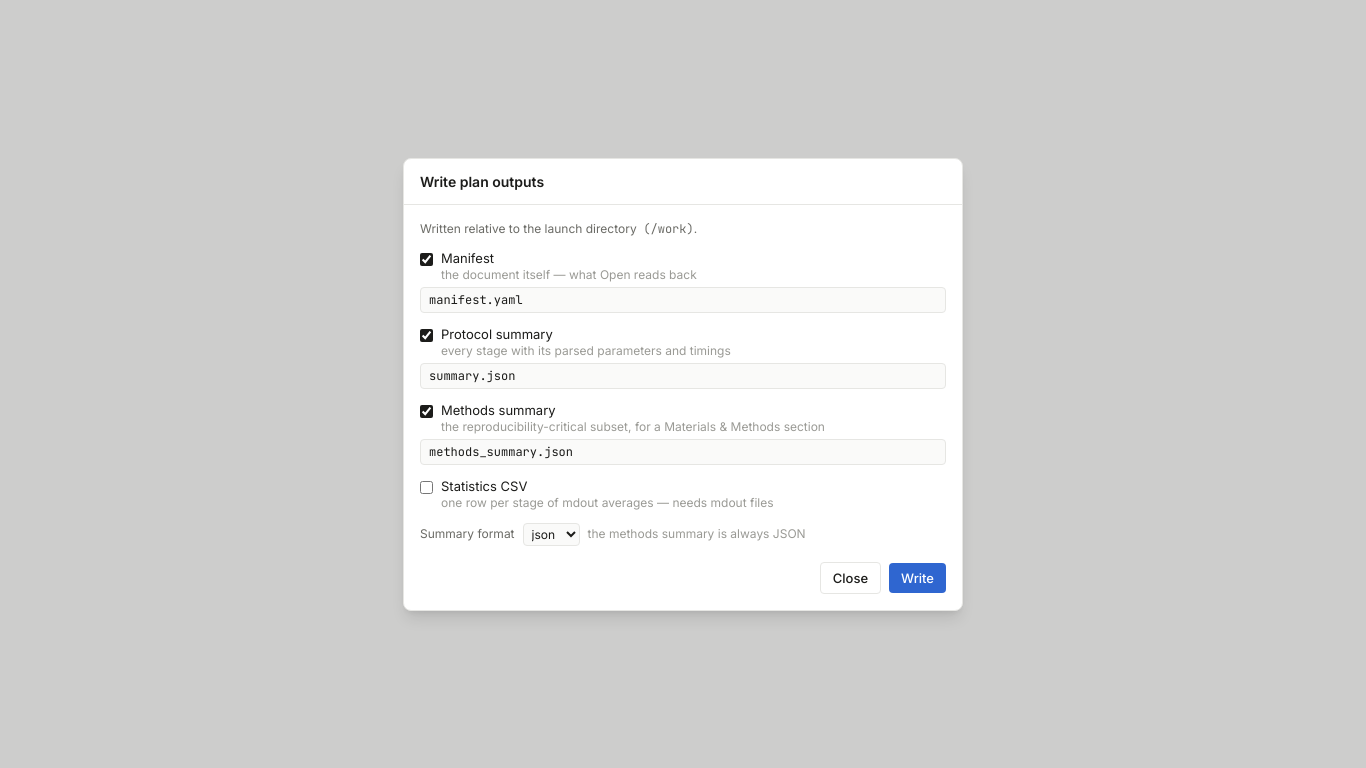
Test: reports every file it wrote, so the user is not left guessing where they went
Expected: the dialog is shown, [403,158,963,610]
Click the button "Write". click: x=918, y=578
box: [889,562,946,592]
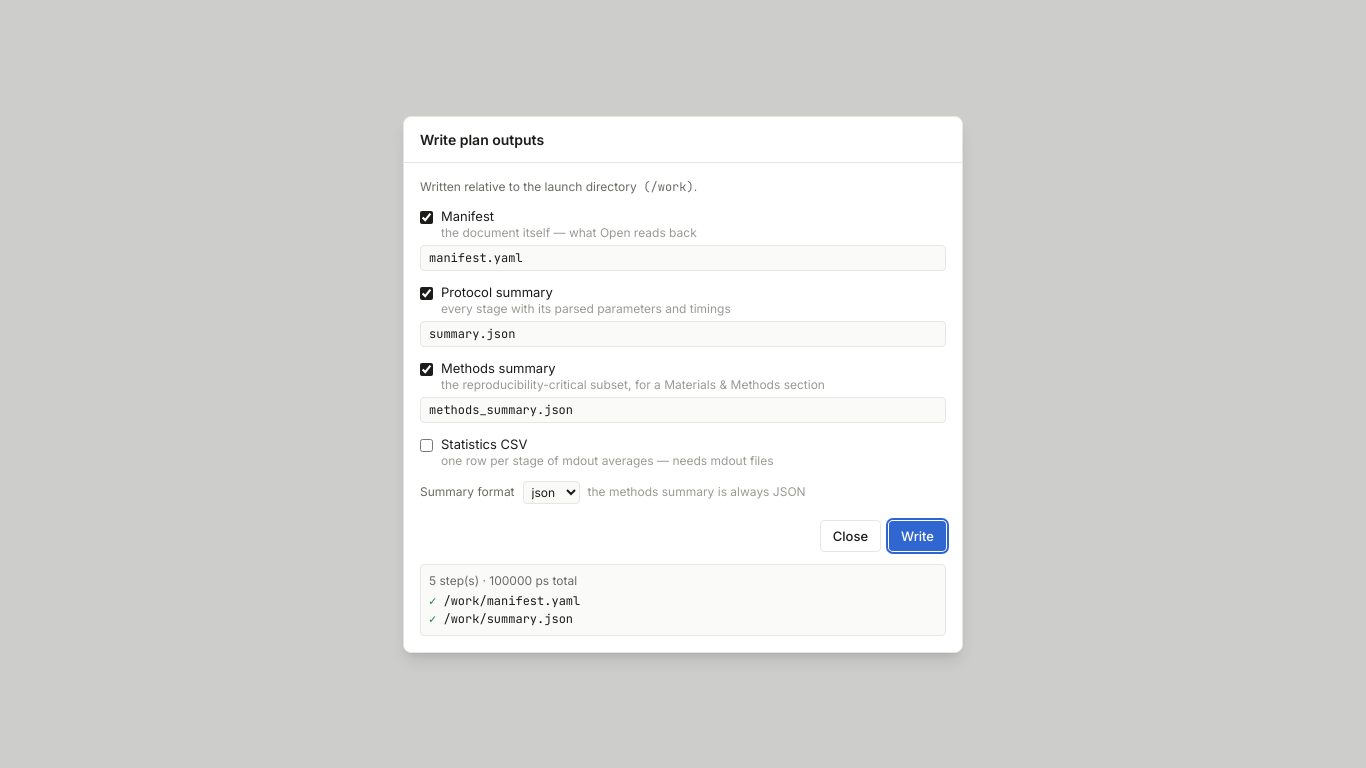
Expected: the list item "/work/manifest.yaml" is shown, [443,592,580,608]
Expected: the list item "/work/summary.json" is shown, [443,610,573,626]
Expected: the text "5 step(s) · 100000 ps total" is shown, [429,572,577,588]
